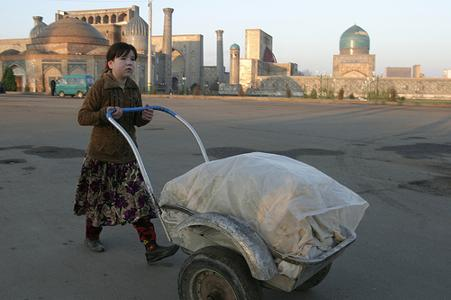person: (70, 41, 183, 268)
